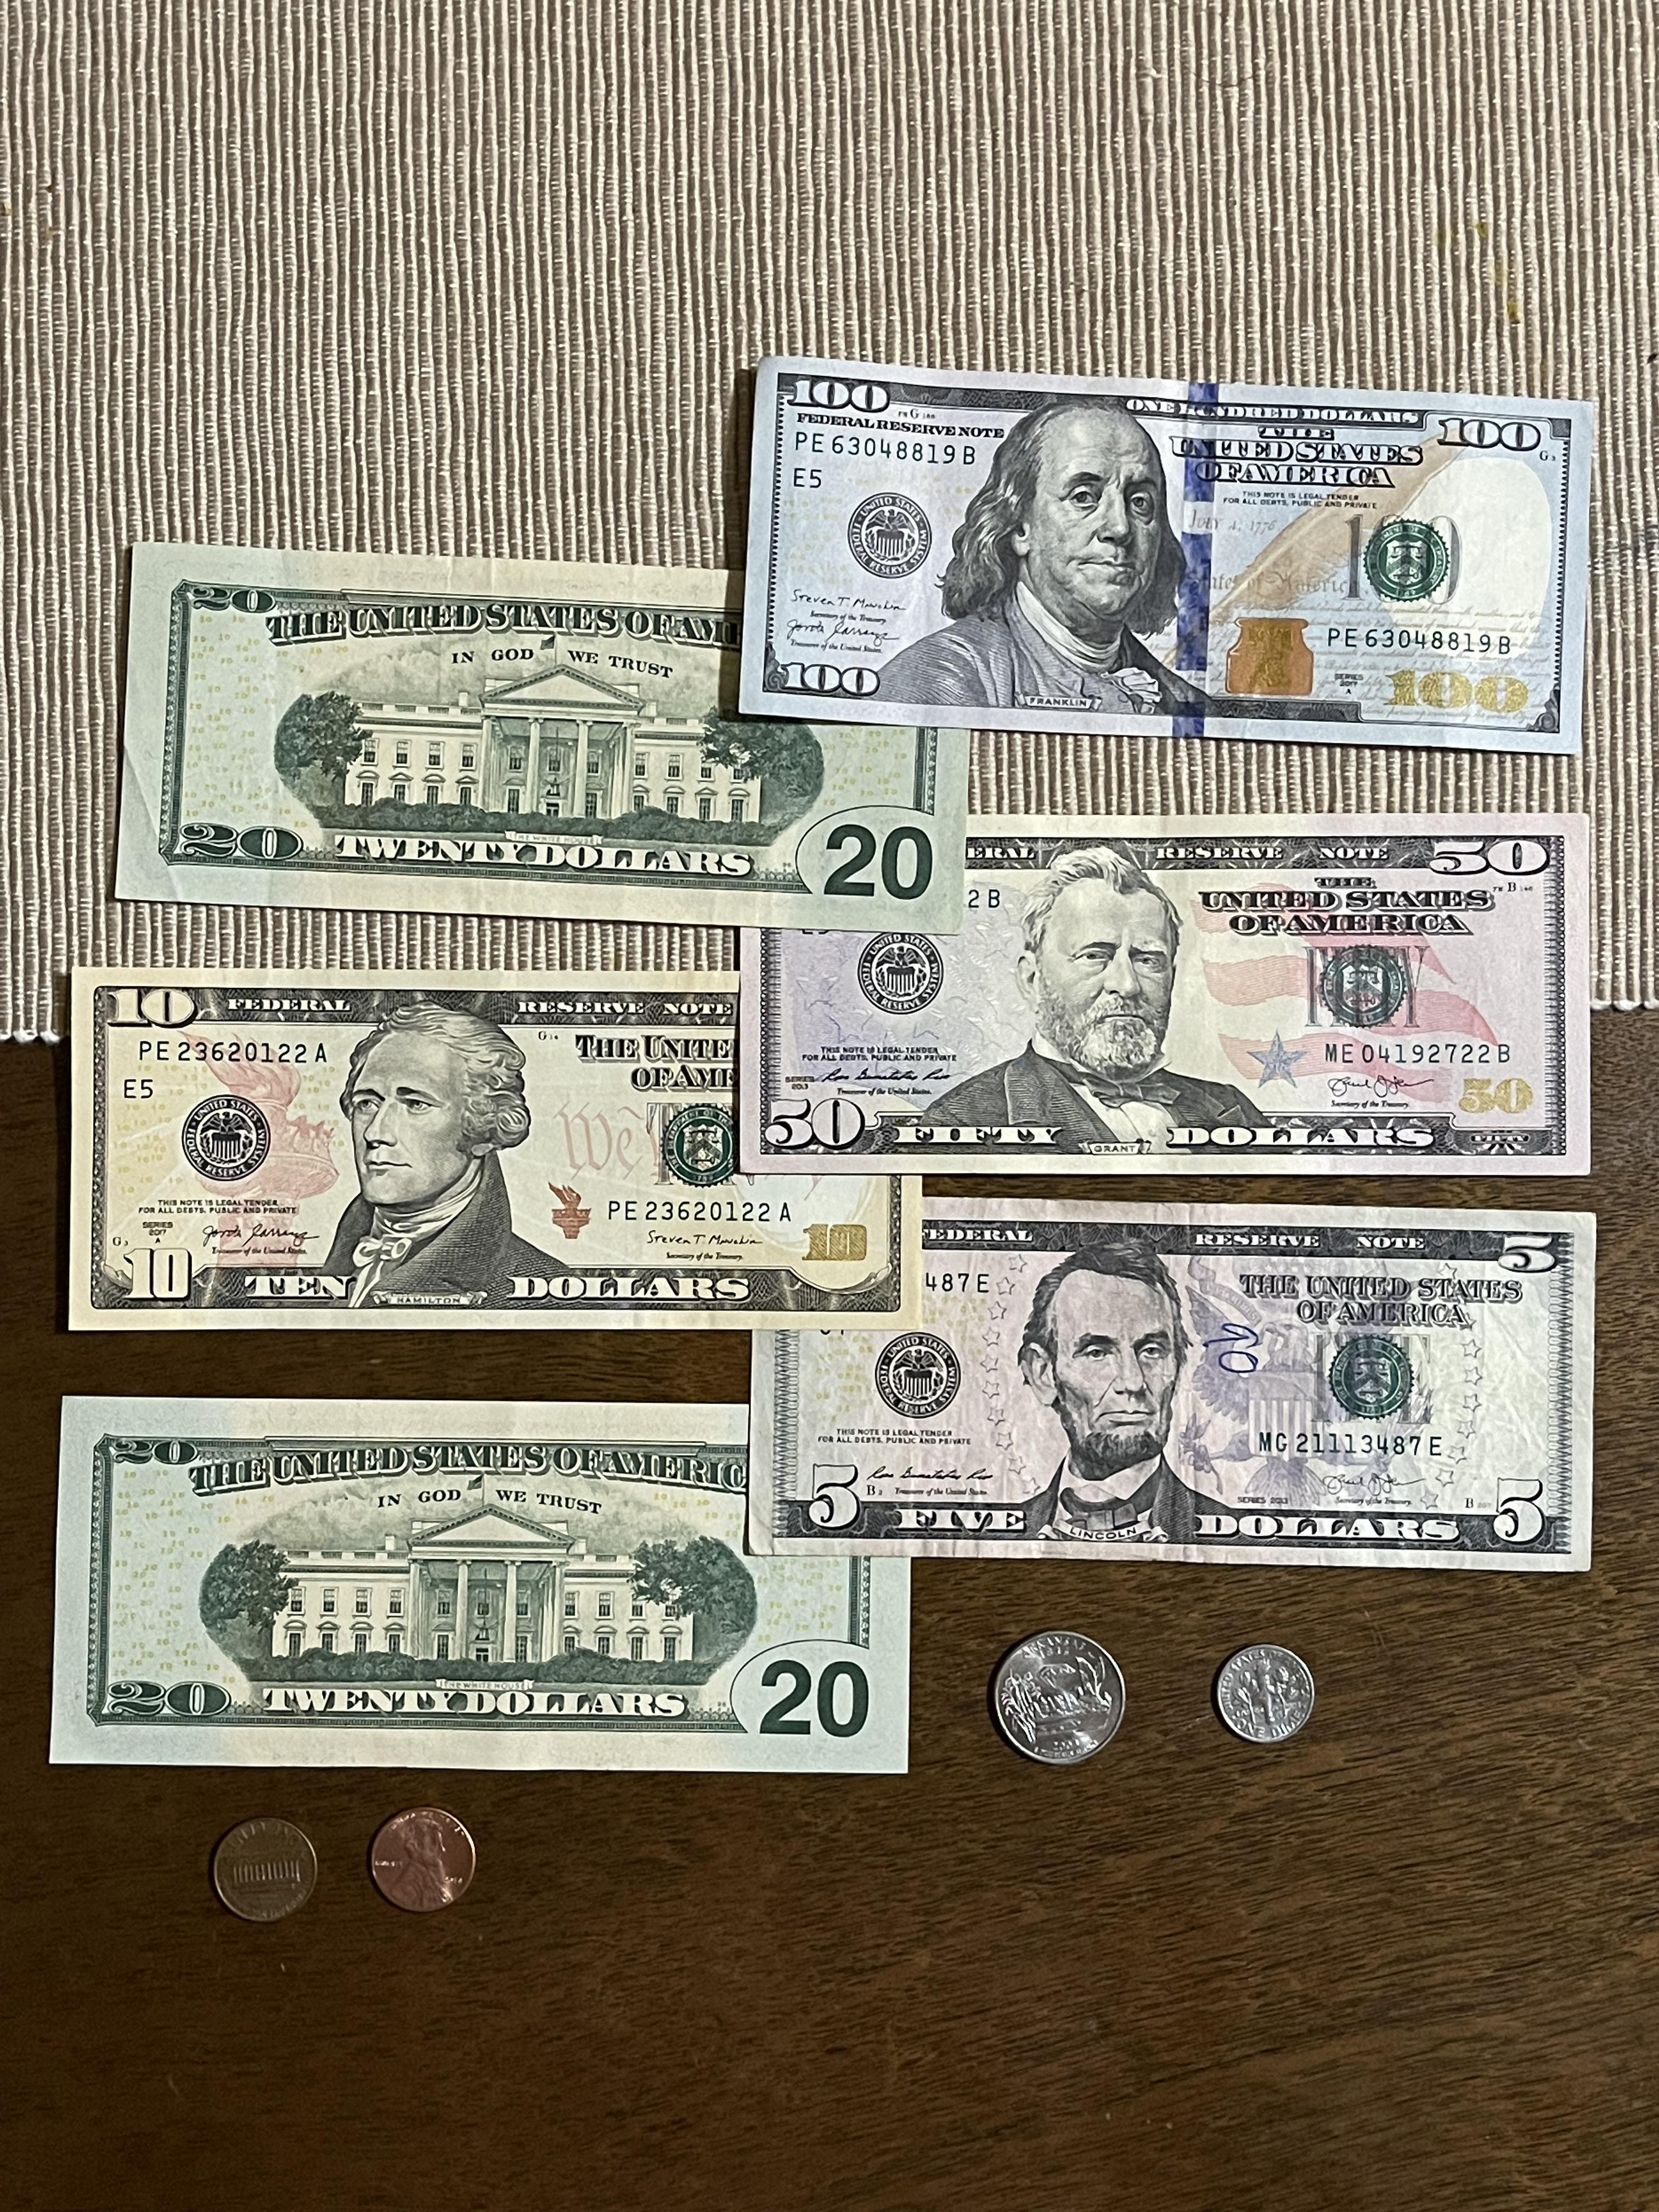Dime: (1215, 1642, 1316, 1743)
FiftyBill: (737, 812, 1593, 1179)
FiveBill: (746, 1197, 1598, 1573)
HundredBill: (737, 355, 1596, 758)
Penny: (369, 1806, 477, 1914), (211, 1817, 319, 1925)
Quarter: (993, 1629, 1126, 1766)
TenBill: (66, 965, 922, 1331)
TwentyBill: (112, 540, 969, 937), (49, 1395, 913, 1775)
